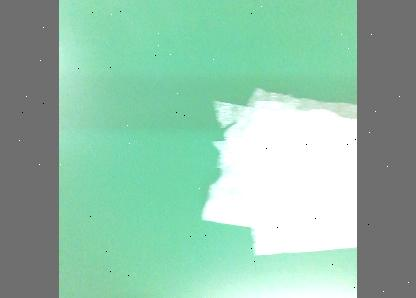Others: (198, 87, 356, 255)
